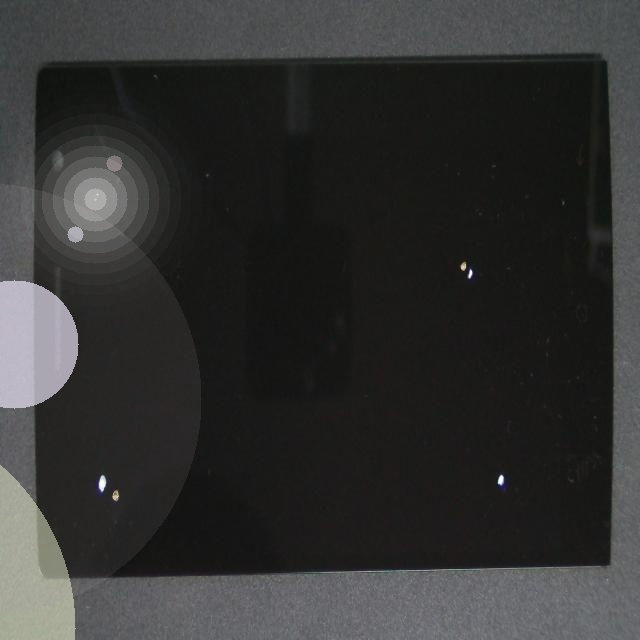stain: (253, 227, 640, 640), (263, 133, 640, 380), (93, 271, 194, 640)
